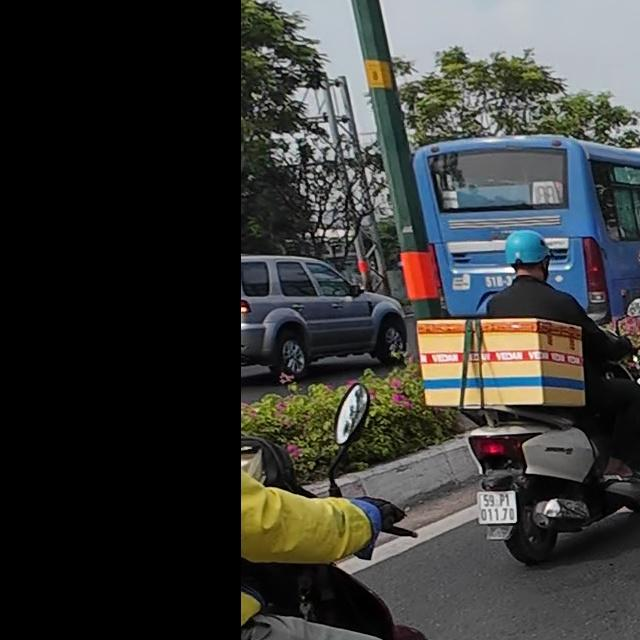license-plate: (478, 492, 517, 523)
